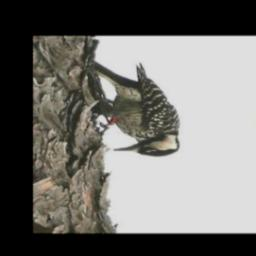Woodpecker: (87, 61, 180, 157)
